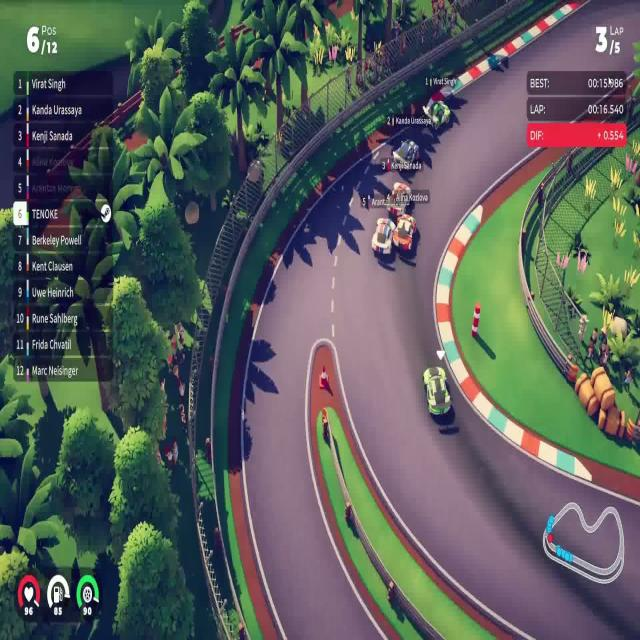car: (422, 364, 452, 418), (371, 216, 395, 258), (392, 213, 417, 253), (422, 98, 451, 132), (391, 138, 420, 170), (388, 182, 411, 213)
